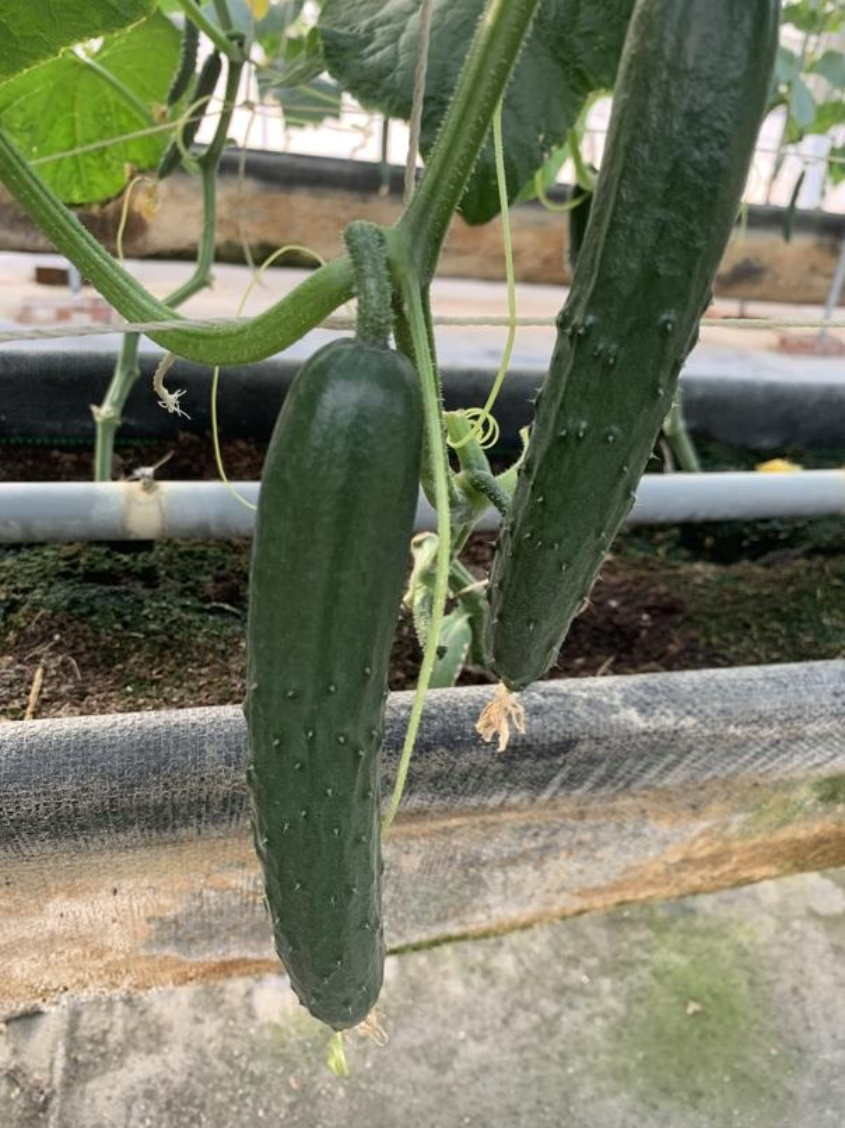mature: (473, 0, 786, 700)
